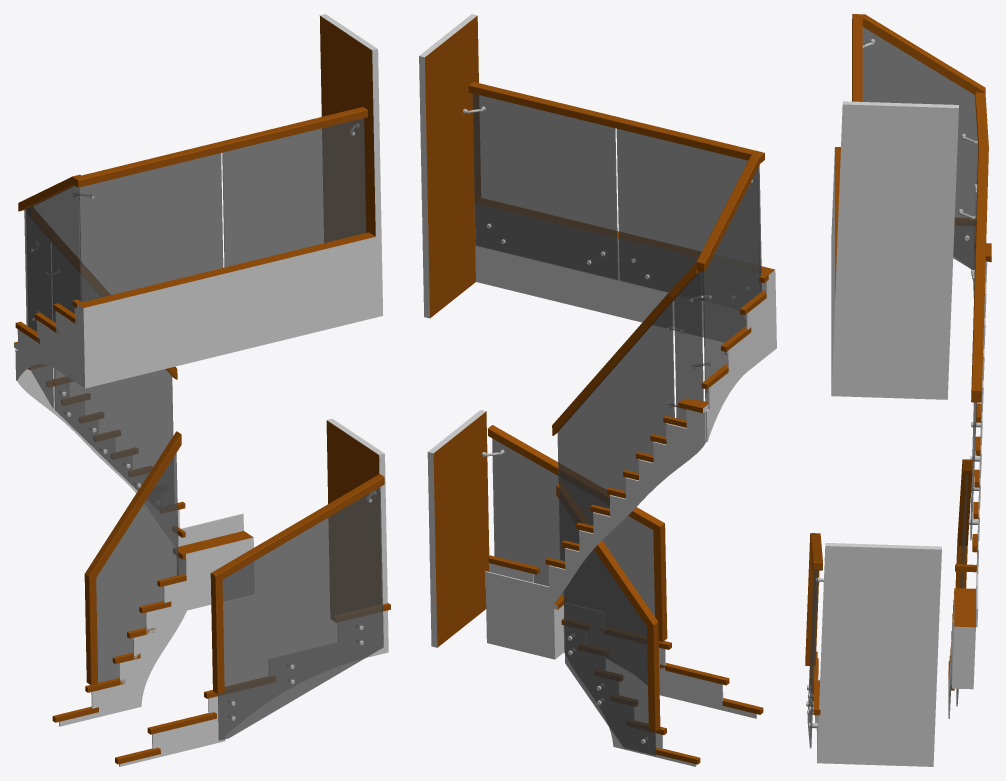
Rendered from 3D Сборка 1.obj.
3 views of the same model, side by side, from view 1: azimuth 30°, elevation 25°; view 2: azimuth 150°, elevation 25°; view 3: azimuth 270°, elevation 25° (orthographic). The views are drawn at different scales.
Bounding box in the file's own units: 2.54 × 5.28 × 1.24.
